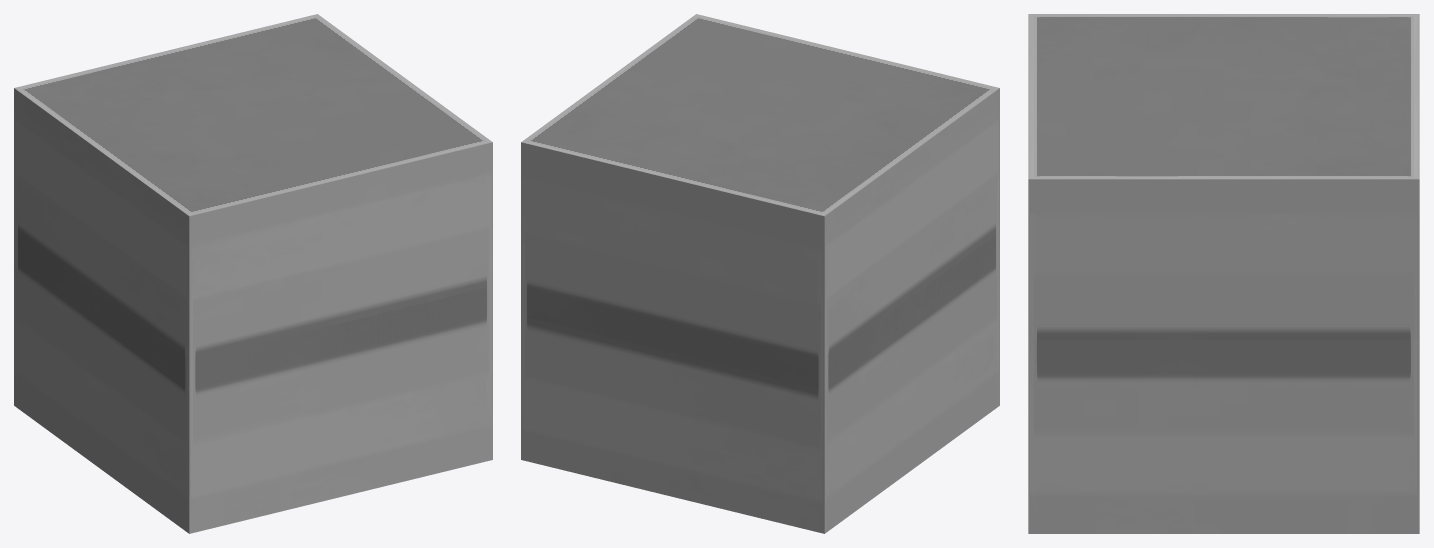
The picture shows the model from 3 angles, left to right: view 1: azimuth 30°, elevation 25°; view 2: azimuth 150°, elevation 25°; view 3: azimuth 270°, elevation 25°; orthographic projection. The views are drawn at different scales.
Visible parts, largest first — view 1: MAT_ScalableMesh_03; view 2: MAT_ScalableMesh_03; view 3: MAT_ScalableMesh_03.
Boxes of the visible parts, bbox=[...] form: MAT_ScalableMesh_03: bbox=[14, 14, 492, 533]; MAT_ScalableMesh_03: bbox=[521, 14, 999, 533]; MAT_ScalableMesh_03: bbox=[1028, 14, 1419, 533].
Bounding box in the file's own units: 1 × 1 × 1.
1 material, 1 textured.
